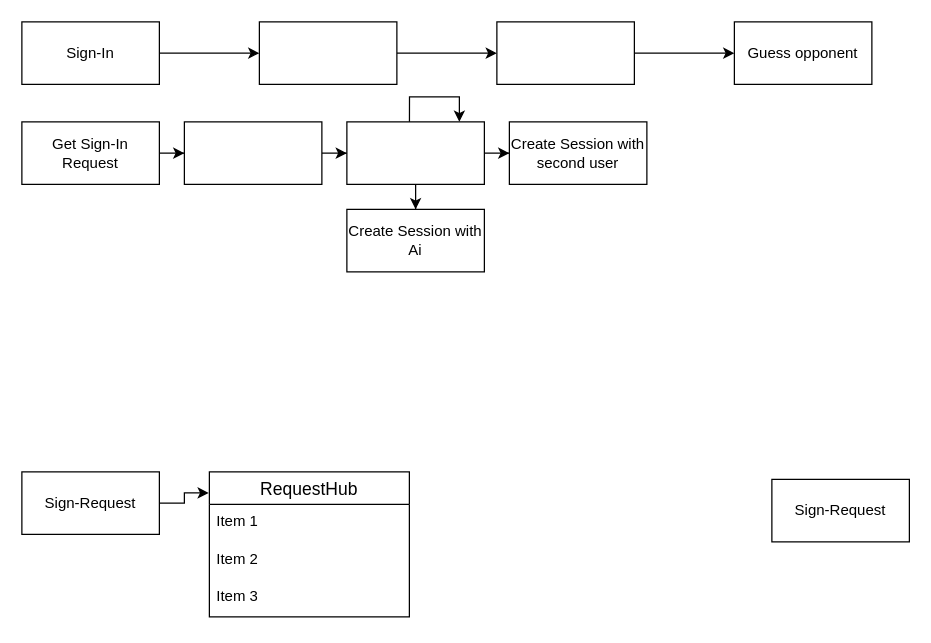
Some shapes in this 931 by 643 pixel diagram are drawn without their labels. Here are the shapes that lost their labels. From the top down, the box of each, then its label:
(258, 21, 397, 84): Wait for session
(496, 21, 634, 84): Send message
(183, 121, 322, 184): Create Session Ticket
(346, 121, 484, 184): Check Tickets
